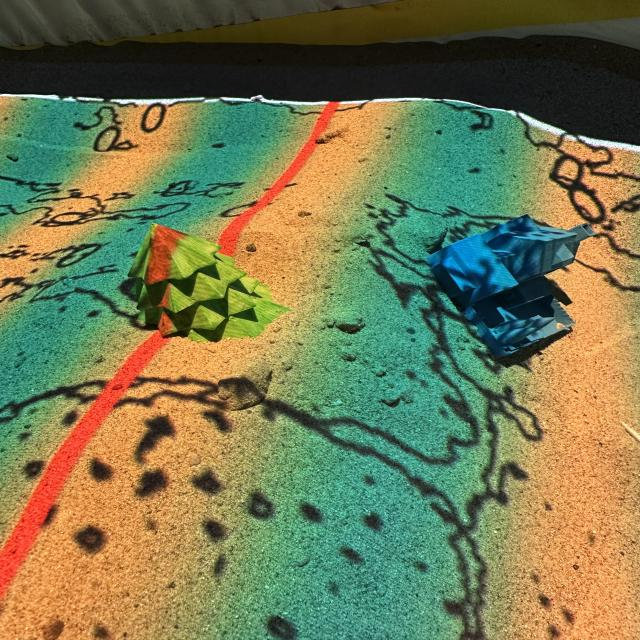house: (425, 212, 596, 360)
tree: (126, 221, 291, 343)
